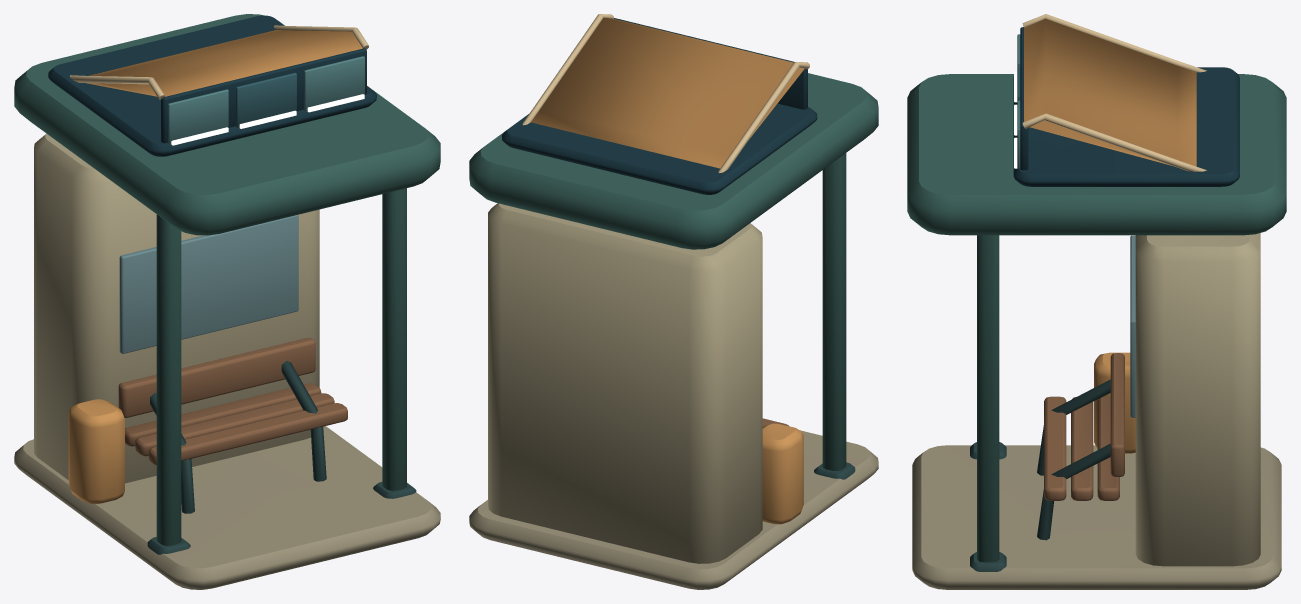
File: annex_parking_4.glb
3 renders of one model, left to right at view 1: azimuth 30°, elevation 25°; view 2: azimuth 150°, elevation 25°; view 3: azimuth 270°, elevation 25°, orthographic. The views are drawn at different scales.
Visible parts, largest first — view 1: AnnexParking4; view 2: AnnexParking4; view 3: AnnexParking4.
Boxes of the visible parts, x1,y1,x2,y2 form: AnnexParking4: (14,14,440,589); AnnexParking4: (469,14,878,589); AnnexParking4: (907,14,1286,589).
Bounding box in the file's own units: 2.12 × 3.44 × 2.55.
